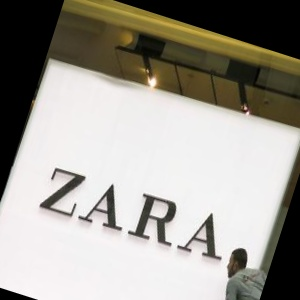zara: (190, 132, 279, 300)
